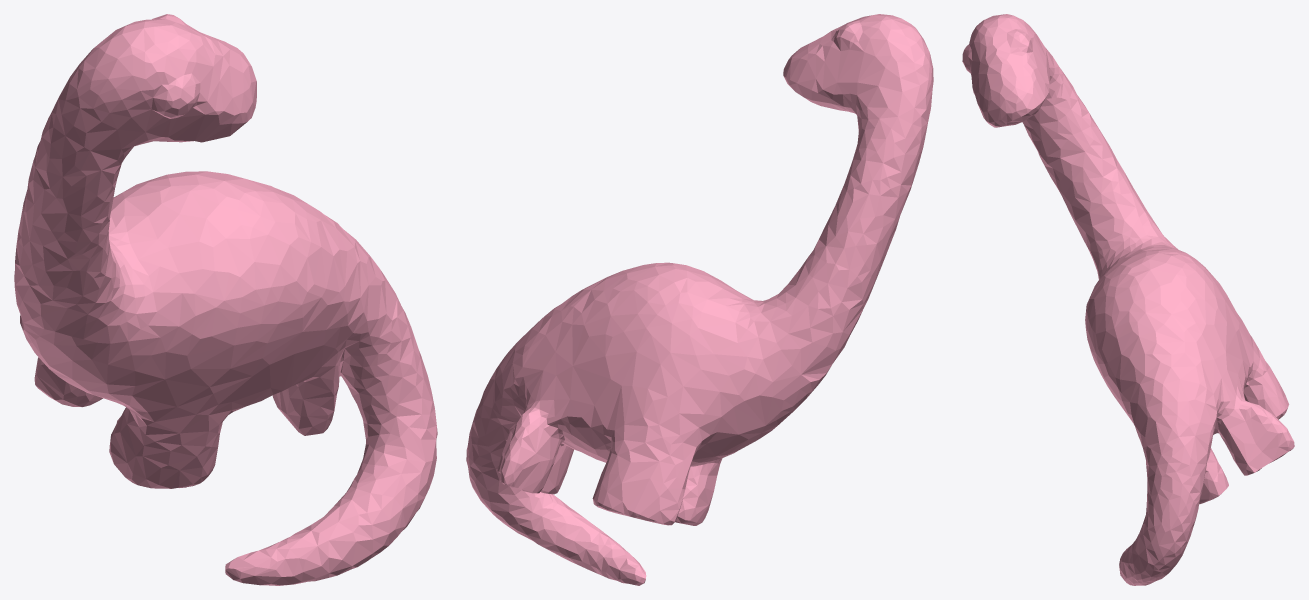
The model's file is Brachiosaurus.glb.
3 renders of one model, left to right at view 1: azimuth 30°, elevation 25°; view 2: azimuth 150°, elevation 25°; view 3: azimuth 270°, elevation 25°, orthographic. The views are drawn at different scales.
Parts seen in each view (by area): view 1: node_id3; view 2: node_id3; view 3: node_id3.
Boxes of the visible parts, box(x1,y1,x2,y2) form: node_id3: box(14, 14, 437, 585); node_id3: box(466, 14, 933, 585); node_id3: box(962, 14, 1294, 585).
Bounding box in the file's own units: 0.3435 × 0.4781 × 0.3053.
Materials: 1 (1 with a texture image).
